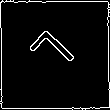L_SE: (26, 26, 84, 84)
